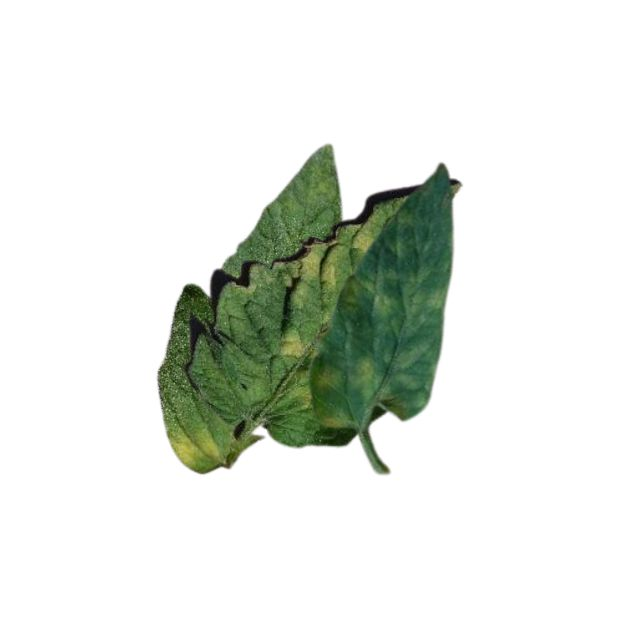Leaf_Mold: (341, 263, 448, 321), (392, 339, 436, 421), (286, 244, 336, 305), (169, 424, 220, 469), (347, 354, 380, 403), (269, 322, 309, 362), (312, 412, 343, 436), (349, 227, 373, 256), (312, 364, 336, 393)
